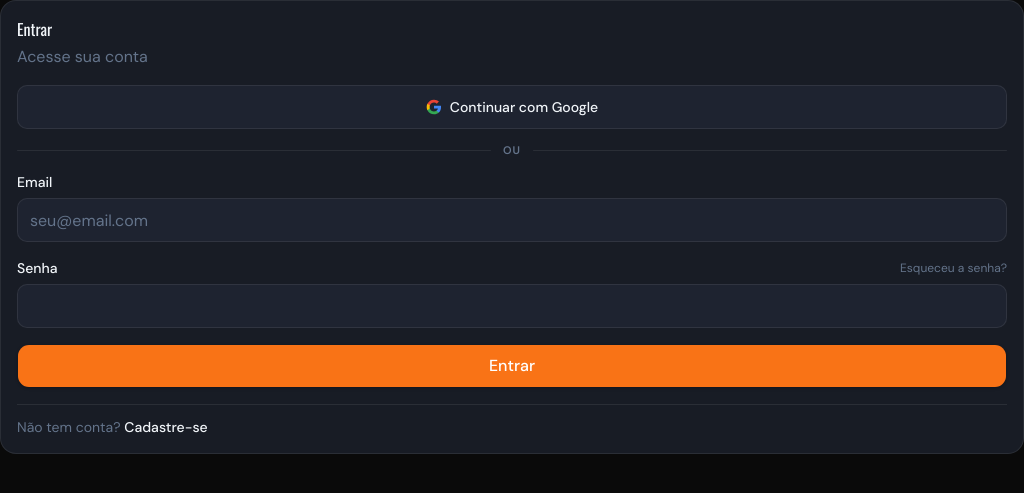
Test: LoginForm › shows validation error for invalid email
Type "not-an-email" into the field labelled "Email" at point(512, 220), box left=17, top=198, right=1007, bottom=242
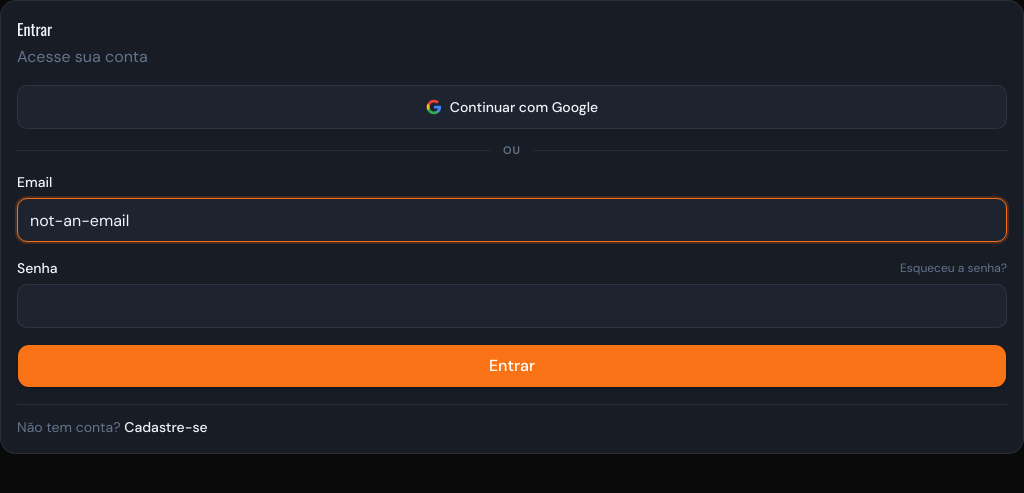
Type "anypassword" into the password field labelled "Senha" at point(512, 306), box left=17, top=284, right=1007, bottom=328
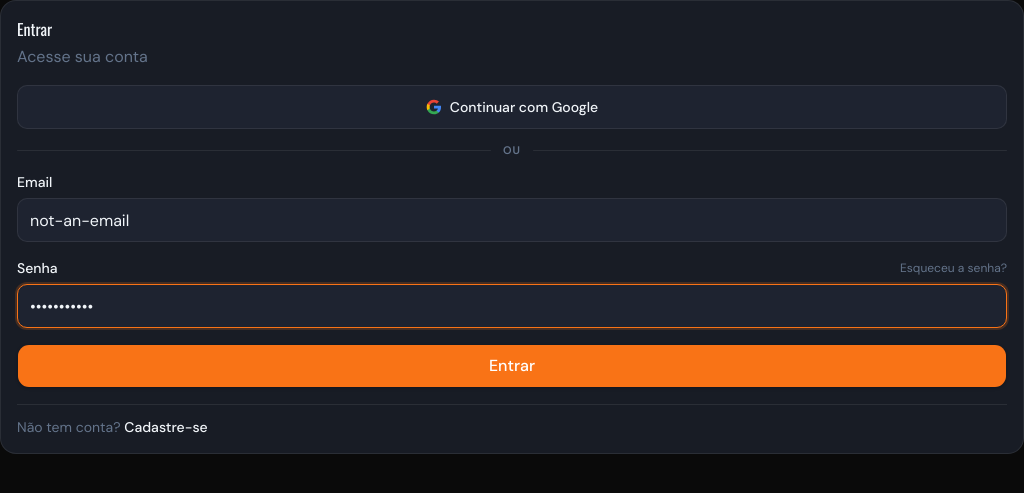
Click the button "Entrar" at point(512, 366), box left=17, top=344, right=1007, bottom=388
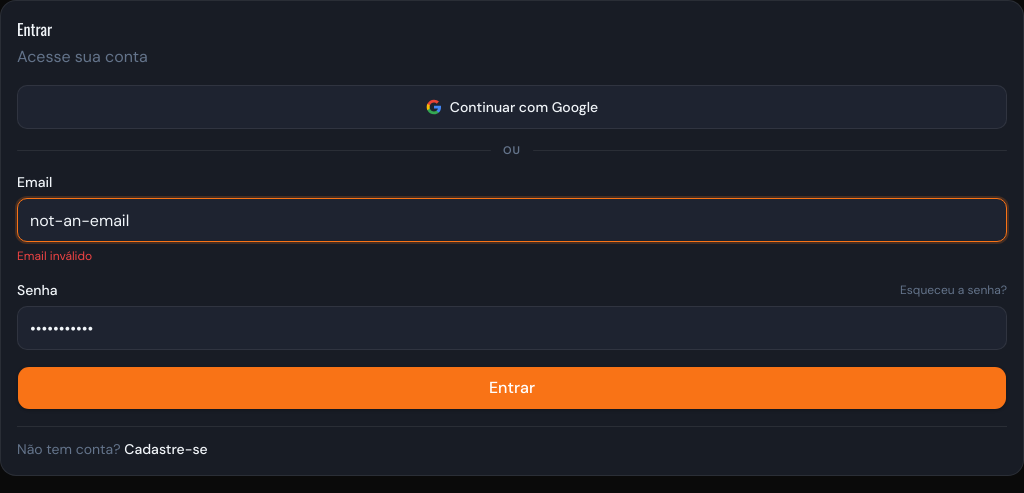
Expected: the text "Email inválido" is shown, left=17, top=248, right=92, bottom=264
